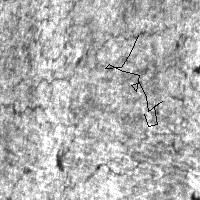crazing: (55, 86, 197, 190), (23, 1, 180, 93), (1, 97, 53, 197), (105, 35, 162, 126)
